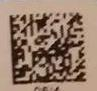datamatrix: (11, 13, 88, 85)
